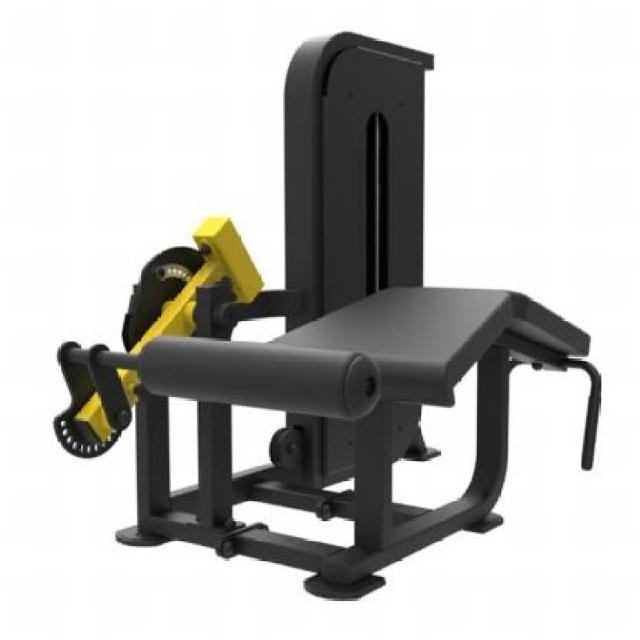reg curl machine: (52, 25, 608, 606)
